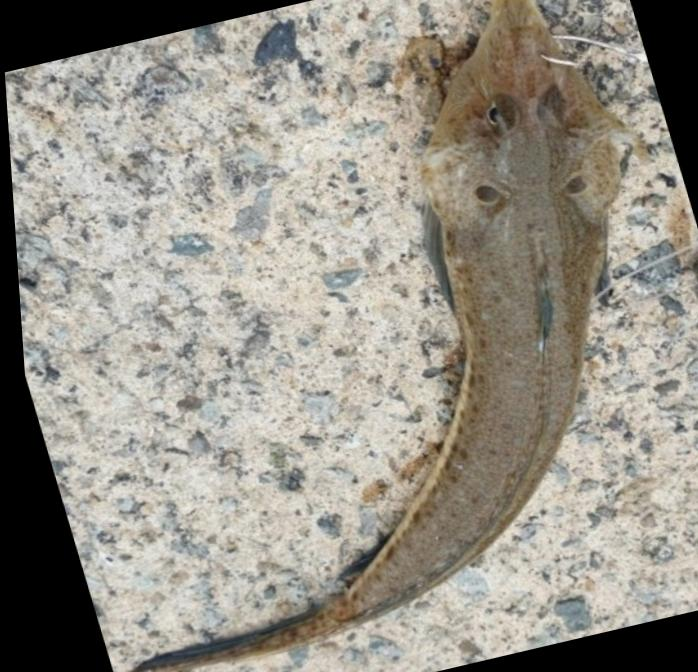fish: (123, 0, 634, 671)
